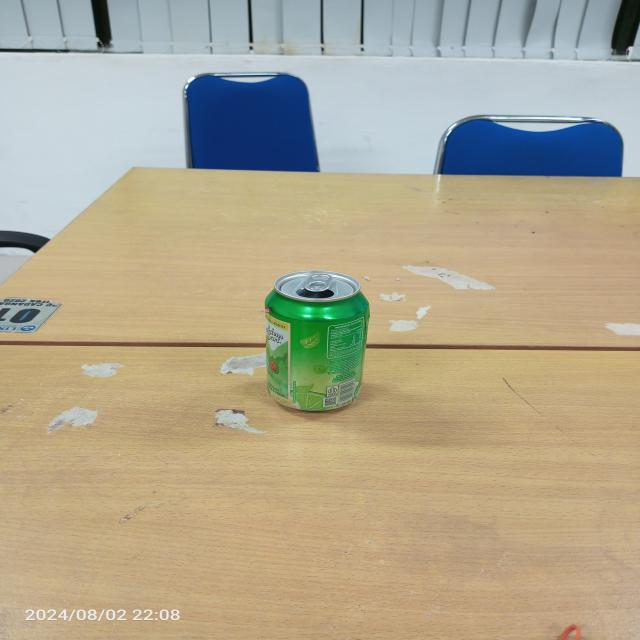ademsarikaleng: (262, 269, 371, 413)
